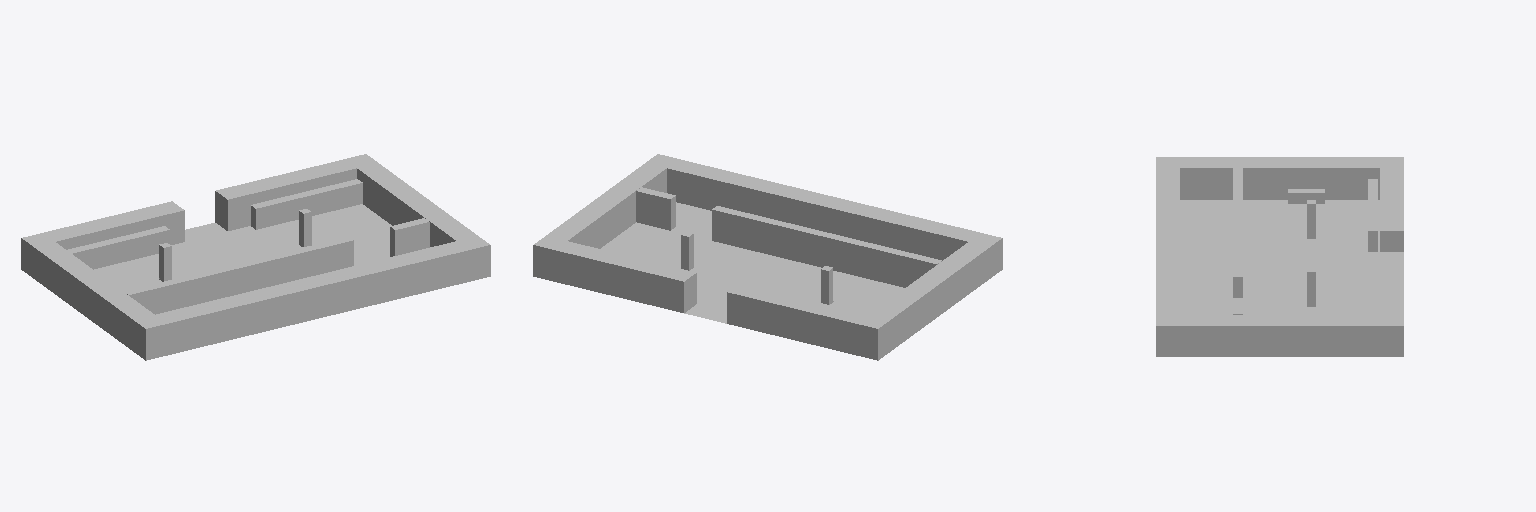
The model's file is hbn mh.obj.
The picture shows the model from 3 angles: view 1: azimuth 30°, elevation 25°; view 2: azimuth 150°, elevation 25°; view 3: azimuth 270°, elevation 25°; orthographic projection.
Visible parts, largest first — view 1: Collision, Room; view 2: Room, Collision; view 3: Room, Collision.
Part boxes in pixels (x1,y1,x2,y2): Collision: (22,154,490,359); Room: (21,169,490,360); Room: (533,169,1002,360); Collision: (533,154,1001,359); Room: (1156,168,1403,356); Collision: (1156,157,1403,356).
Size of the model in its own units: 80 by 7.71 by 50.